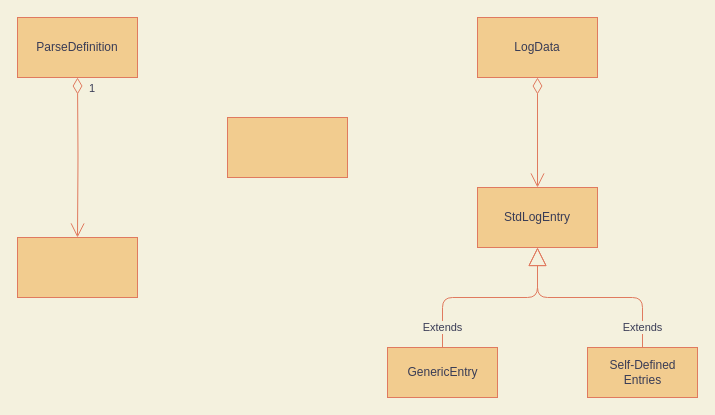
Image size: 715x415. Some labels were removed from this diagram. The box of each missing label's shape, as (x1, y1, x2, y2) in pixels:
ParseDefinitionEntry: (16, 236, 138, 298)
StringParseFactory: (226, 116, 348, 178)
